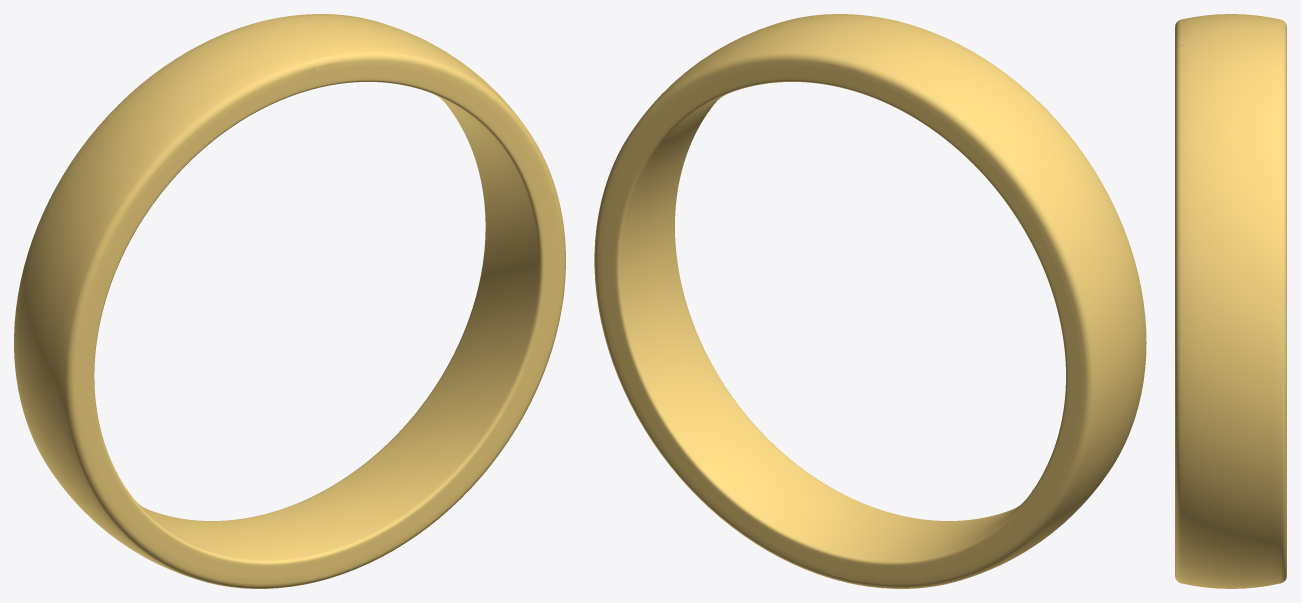
Rendered from BenYGmattewb_blender.glb.
The picture shows the model from 3 angles, left to right: view 1: azimuth 30°, elevation 25°; view 2: azimuth 150°, elevation 25°; view 3: azimuth 270°, elevation 25°; orthographic projection. The views are drawn at different scales.
Parts seen in each view (by area): view 1: Ben YG for 3d model; view 2: Ben YG for 3d model; view 3: Ben YG for 3d model.
Part boxes in pixels (left/top/right/bottom): Ben YG for 3d model: left=14, top=14, right=565, bottom=588; Ben YG for 3d model: left=594, top=14, right=1146, bottom=588; Ben YG for 3d model: left=1175, top=14, right=1286, bottom=588.
Bounding box in the file's own units: 22.6 × 22.6 × 4.4.
